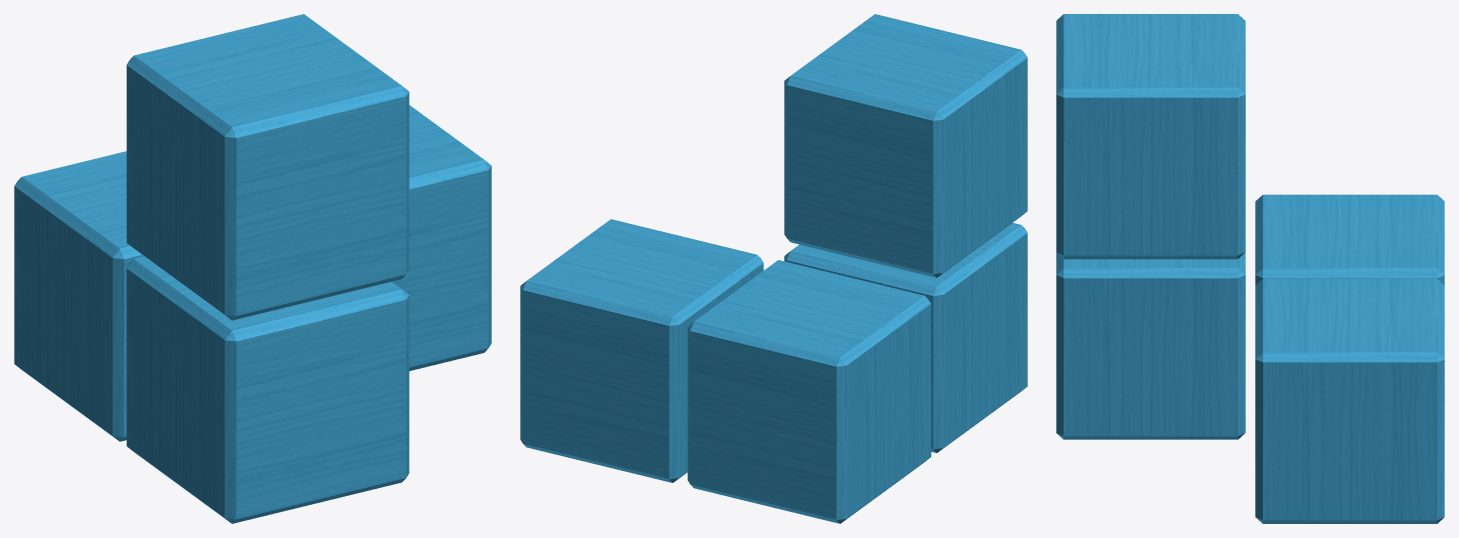
The model's file is piece_P.glb.
The picture shows the model from 3 angles, left to right: view 1: azimuth 30°, elevation 25°; view 2: azimuth 150°, elevation 25°; view 3: azimuth 270°, elevation 25°; orthographic projection. The views are drawn at different scales.
Parts seen in each view (by area): view 1: piece_P; view 2: piece_P; view 3: piece_P.
Part boxes in pixels (left/top/right/bottom): piece_P: left=14, top=14, right=491, bottom=523; piece_P: left=520, top=14, right=1027, bottom=523; piece_P: left=1056, top=14, right=1444, bottom=523.
Bounding box in the file's own units: 0.078 × 0.078 × 0.078.
Materials: 1 (1 with a texture image).
